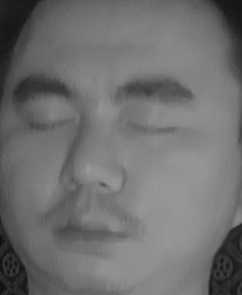blink: (129, 107, 178, 148), (27, 106, 74, 140)
mouth: (45, 201, 131, 257)
